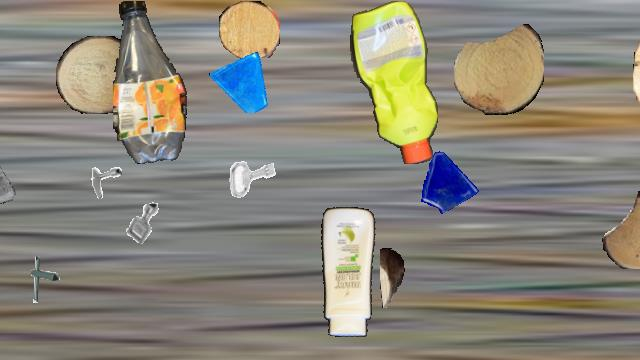glass: (415, 148, 481, 214), (209, 50, 271, 112), (0, 147, 25, 215)
metal: (221, 148, 281, 208), (115, 195, 171, 251), (16, 253, 68, 305), (80, 156, 122, 198)
plastic: (349, 1, 439, 163), (113, 1, 189, 163), (314, 207, 378, 337)
wood: (454, 23, 544, 115), (56, 36, 138, 114), (219, 1, 279, 59), (602, 191, 640, 269), (380, 248, 404, 308), (633, 14, 640, 140)
